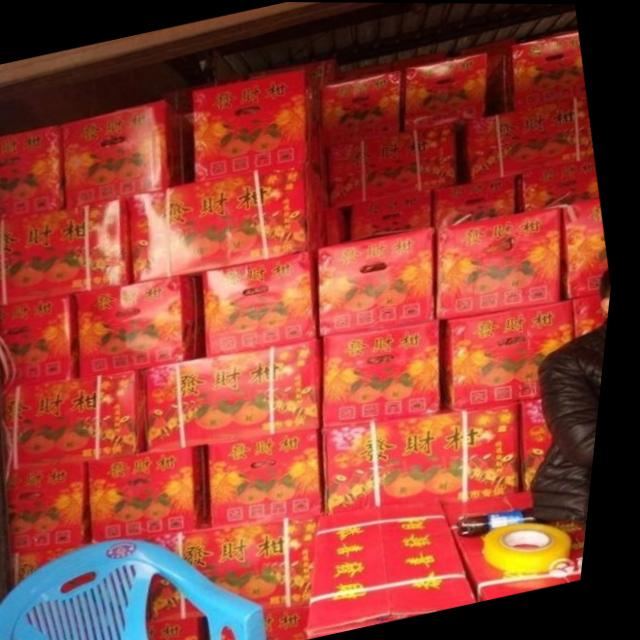box: (315, 496, 488, 640), (127, 163, 334, 282), (144, 513, 328, 640), (332, 397, 529, 513), (154, 337, 330, 451), (453, 490, 598, 600), (194, 67, 331, 181), (8, 367, 155, 470), (0, 197, 138, 306), (447, 299, 581, 409), (64, 99, 197, 207), (443, 204, 567, 318), (83, 274, 212, 377), (323, 225, 441, 335), (207, 248, 325, 355), (330, 319, 448, 426), (459, 92, 597, 183), (218, 426, 335, 527), (330, 122, 461, 212), (99, 445, 221, 541), (13, 460, 103, 554), (489, 29, 588, 113), (0, 293, 86, 387), (0, 122, 68, 219), (406, 51, 488, 129), (327, 69, 406, 144), (565, 195, 613, 299), (521, 157, 603, 211), (438, 174, 520, 223), (354, 190, 434, 235), (23, 545, 94, 592), (530, 397, 564, 490), (164, 75, 243, 113), (161, 573, 218, 622), (251, 57, 343, 83), (462, 36, 517, 75), (578, 291, 614, 336), (162, 617, 215, 640), (392, 49, 445, 69), (332, 205, 355, 244), (344, 61, 390, 80)
